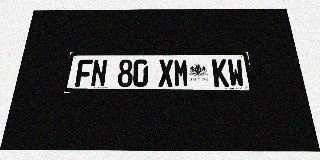0: (133, 59, 148, 87)
8: (117, 59, 133, 87)
F: (75, 59, 93, 87)
K: (212, 59, 229, 87)
M: (174, 59, 189, 87)
N: (90, 59, 108, 87)
W: (227, 59, 245, 87)
X: (158, 59, 173, 87)
